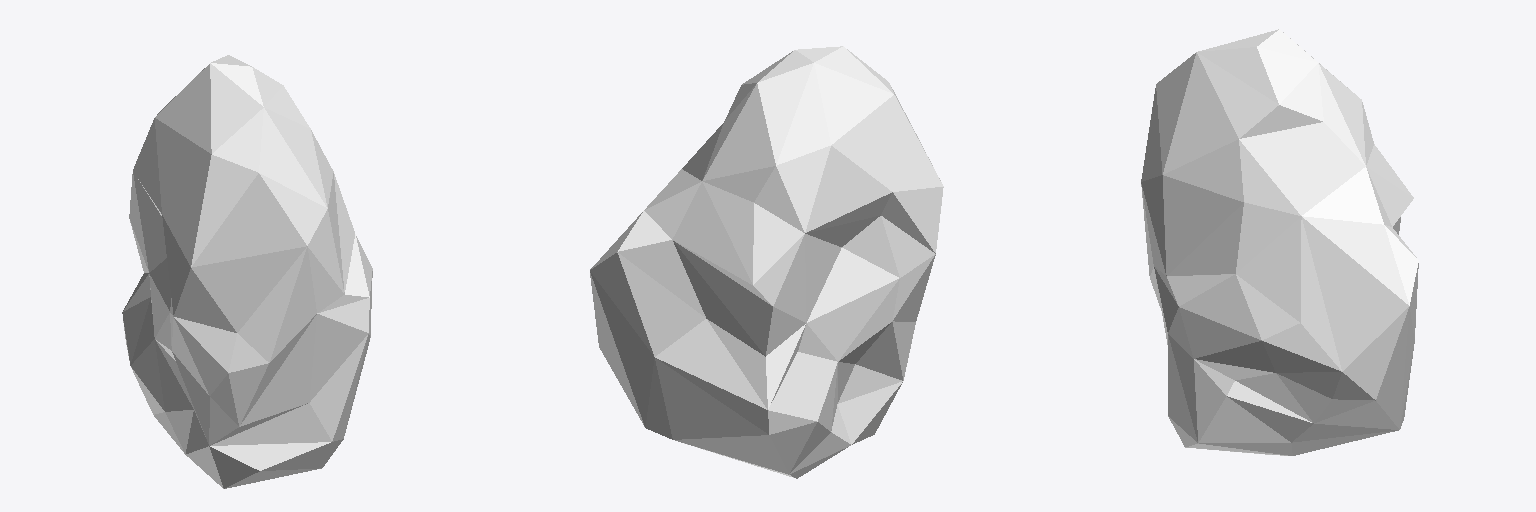
File: Asteroid_01_S.obj
3 renders of one model, left to right at view 1: azimuth 30°, elevation 25°; view 2: azimuth 150°, elevation 25°; view 3: azimuth 270°, elevation 25°, orthographic.
Parts seen in each view (by area): view 1: Asteroid_01_S; view 2: Asteroid_01_S; view 3: Asteroid_01_S.
Boxes of the visible parts, box(x1,y1,x2,y2) form: Asteroid_01_S: box(122, 55, 372, 488); Asteroid_01_S: box(590, 46, 943, 478); Asteroid_01_S: box(1141, 29, 1418, 455).
Size of the model in its own units: 41.7 by 65.1 by 40.1.